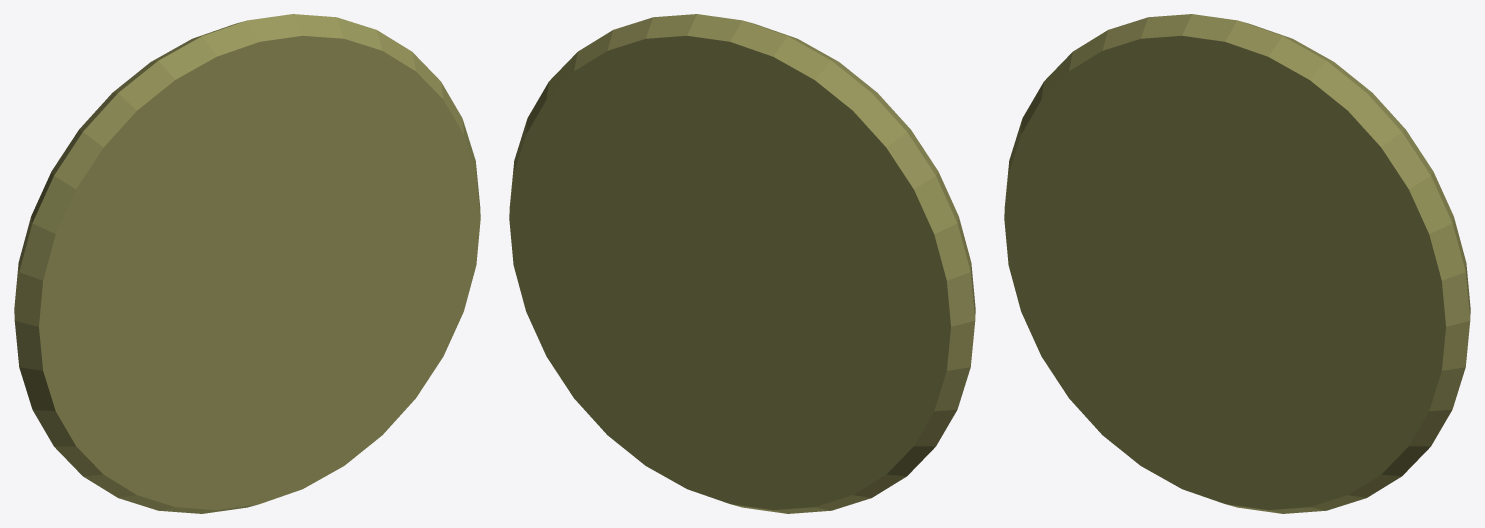
File: FanShot.fbx
3 renders of one model, left to right at view 1: azimuth 30°, elevation 25°; view 2: azimuth 150°, elevation 25°; view 3: azimuth 330°, elevation 25°, orthographic.
Visible parts, largest first — view 1: FanShot; view 2: FanShot; view 3: FanShot.
Part boxes in pixels (box(x1,y1,x2,y2)): FanShot: box(14, 14, 480, 513); FanShot: box(509, 14, 975, 513); FanShot: box(1004, 14, 1470, 513).
Bounding box in the file's own units: 211 × 211 × 19.3.
1 material, 1 textured.
